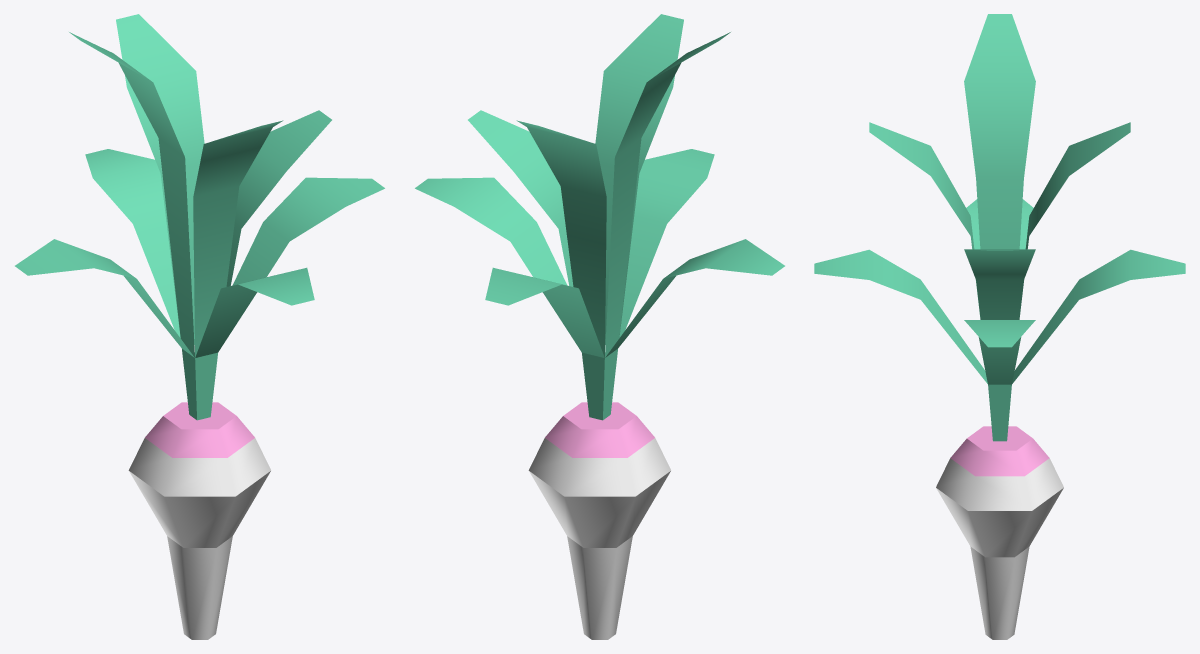
Rendered from radish.GLB.
3 views of the same model, side by side, from view 1: azimuth 30°, elevation 25°; view 2: azimuth 150°, elevation 25°; view 3: azimuth 270°, elevation 25° (orthographic). The views are drawn at different scales.
Parts seen in each view (by area): view 1: radish; view 2: radish; view 3: radish.
Boxes of the visible parts, x1,y1,x2,y2 form: radish: (15,14,384,639); radish: (415,14,784,639); radish: (814,14,1185,639).
Bounding box in the file's own units: 0.3431 × 0.5763 × 0.3431.
